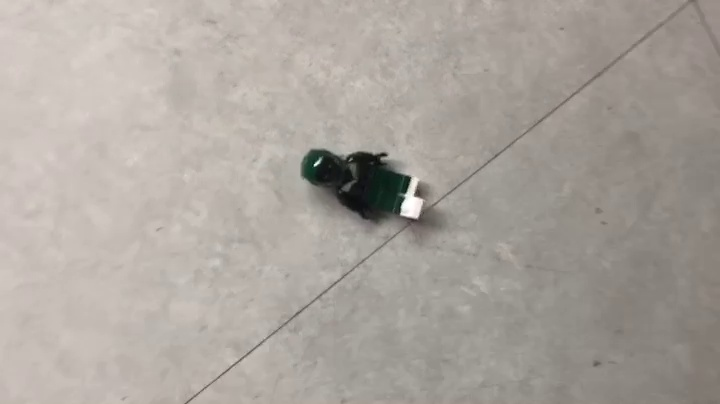people: (301, 147, 427, 224)
